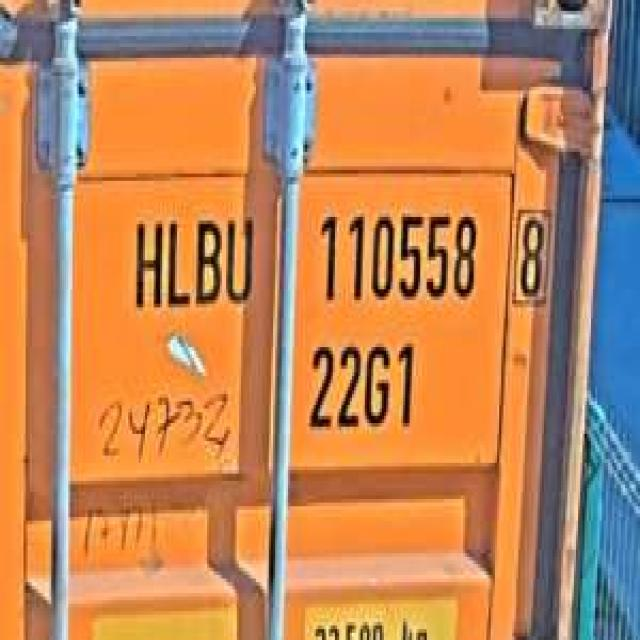dv: (508, 199, 554, 314)
owner: (128, 202, 258, 314)
serial: (309, 202, 482, 311)
size: (303, 333, 420, 441)
